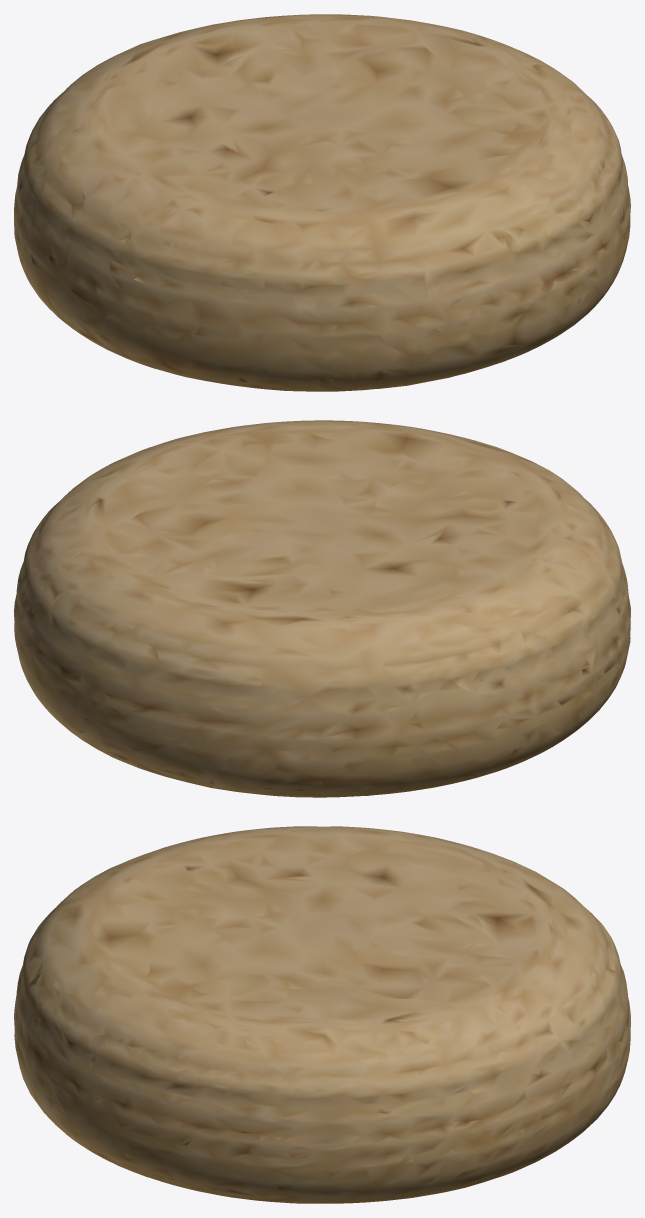
Rendered from cushion-high.glb.
3 renders of one model, top to bottom at view 1: azimuth 30°, elevation 25°; view 2: azimuth 150°, elevation 25°; view 3: azimuth 270°, elevation 25°, orthographic.
Visible parts, largest first — view 1: cushion-high; view 2: cushion-high; view 3: cushion-high.
Part boxes in pixels (x1=…): cushion-high: x1=14, y1=14, x2=630, y2=391; cushion-high: x1=14, y1=420, x2=630, y2=797; cushion-high: x1=14, y1=826, x2=630, y2=1203.
Bounding box in the file's own units: 1 × 0.3063 × 0.9976.
